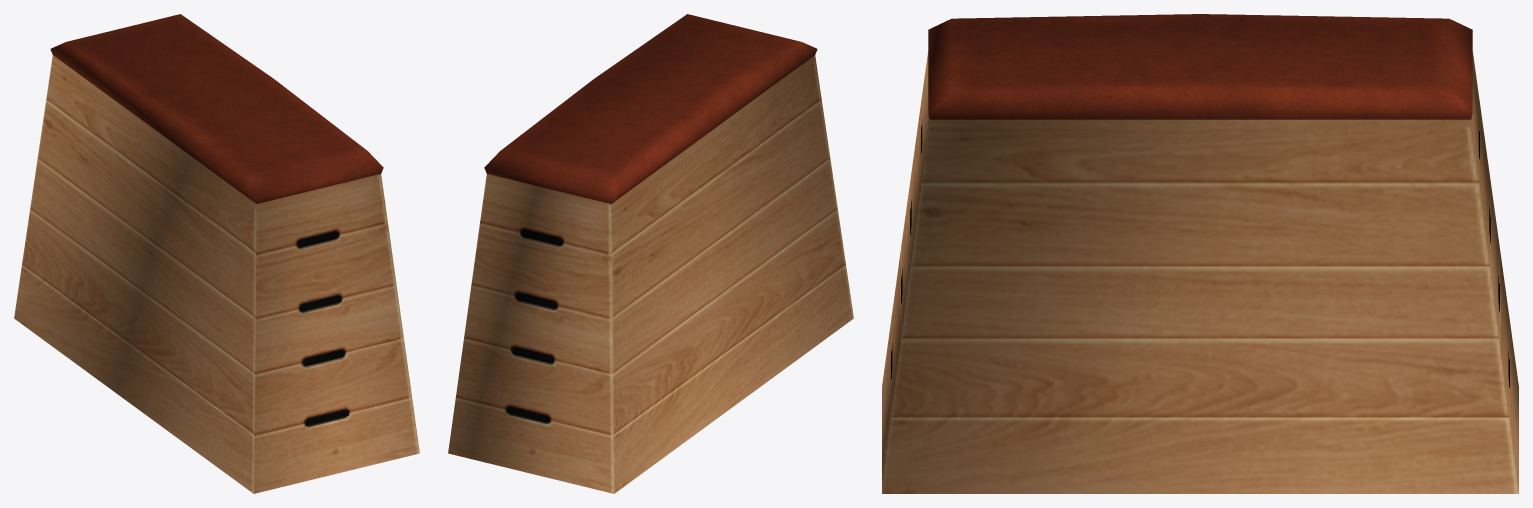
File: wooden_goat.fbx
The picture shows the model from 3 angles, left to right: view 1: azimuth 30°, elevation 25°; view 2: azimuth 150°, elevation 25°; view 3: azimuth 270°, elevation 25°; orthographic projection. The views are drawn at different scales.
Parts seen in each view (by area): view 1: Cube_006; view 2: Cube_006; view 3: Cube_006.
Boxes of the visible parts, x1=… form: Cube_006: x1=14, y1=14, x2=419, y2=493; Cube_006: x1=448, y1=14, x2=853, y2=493; Cube_006: x1=882, y1=14, x2=1518, y2=493.
Bounding box in the file's own units: 0.9737 × 1.64 × 2.43.
